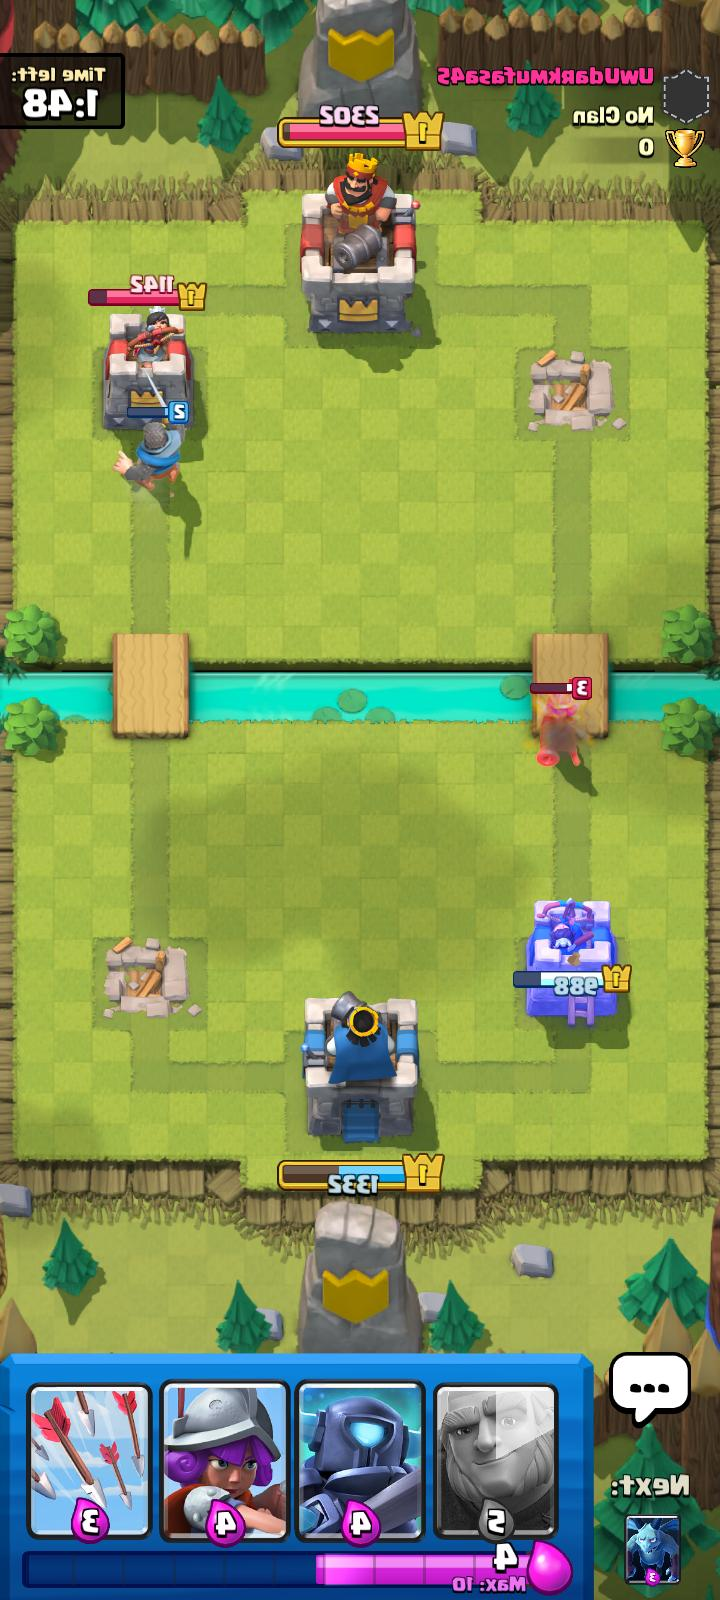chevalier: (107, 420, 192, 503)
geant: (525, 683, 590, 771)
